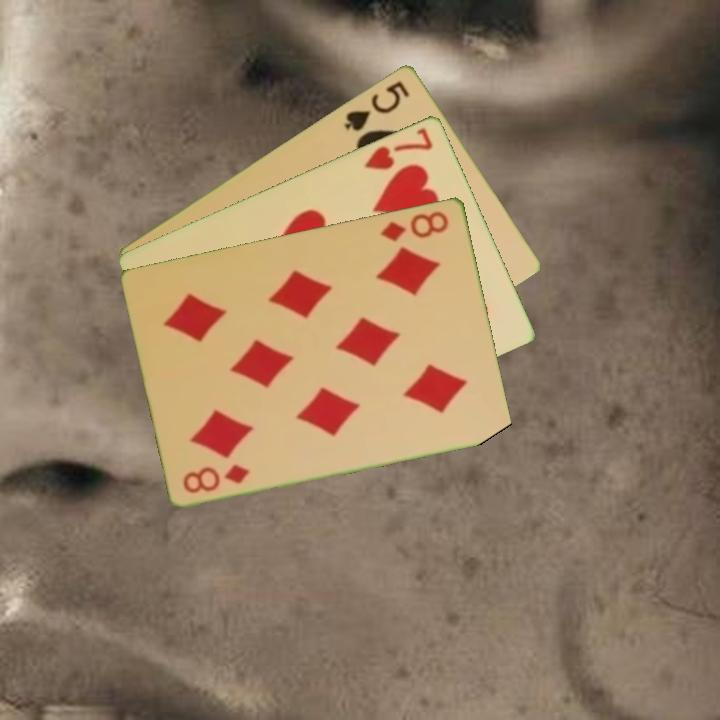5s: (340, 76, 413, 134)
7h: (360, 123, 436, 172)
8d: (377, 207, 452, 244), (179, 460, 253, 496)
